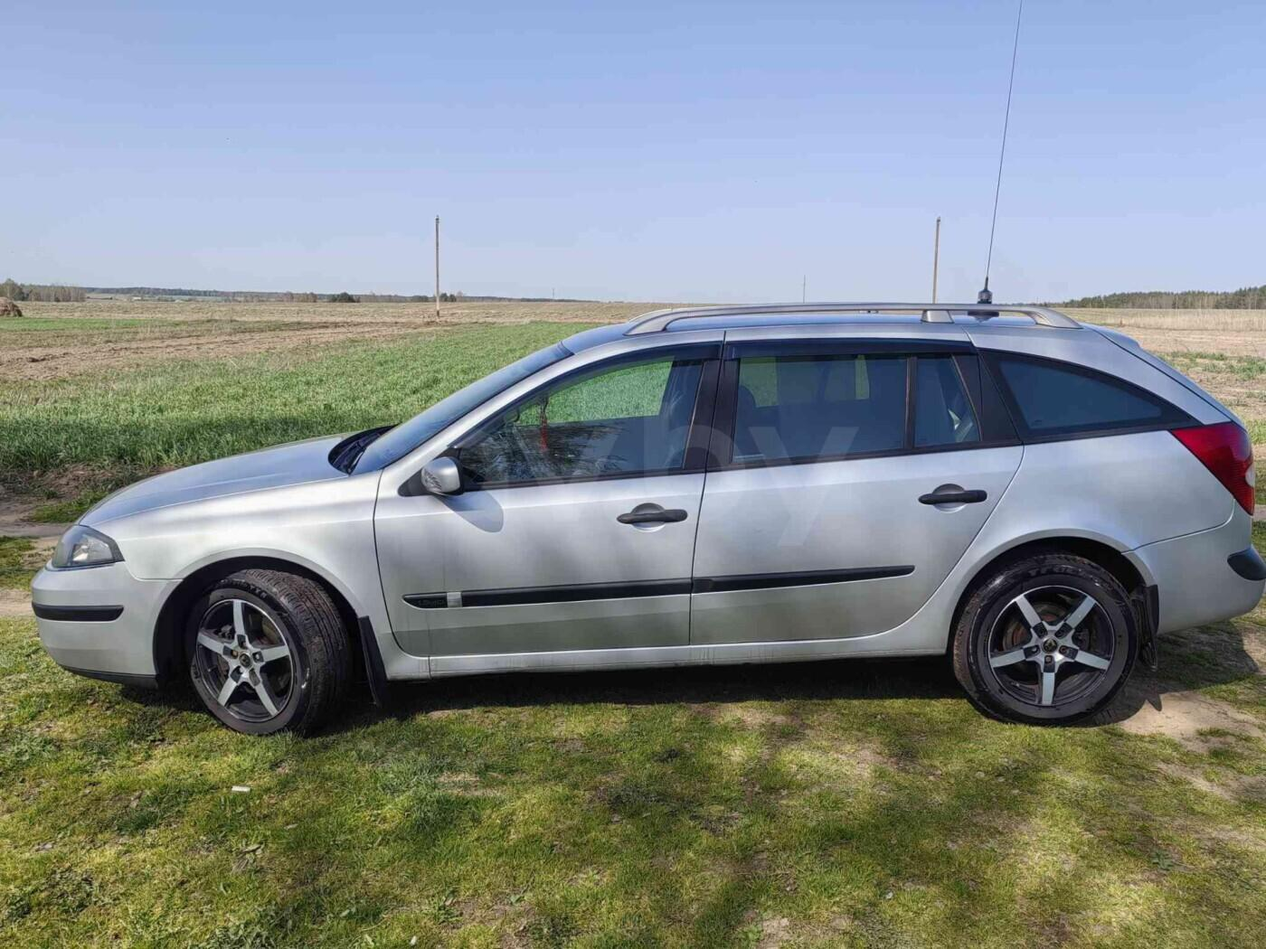Laguna_2005-2007: (21, 307, 1266, 745)
